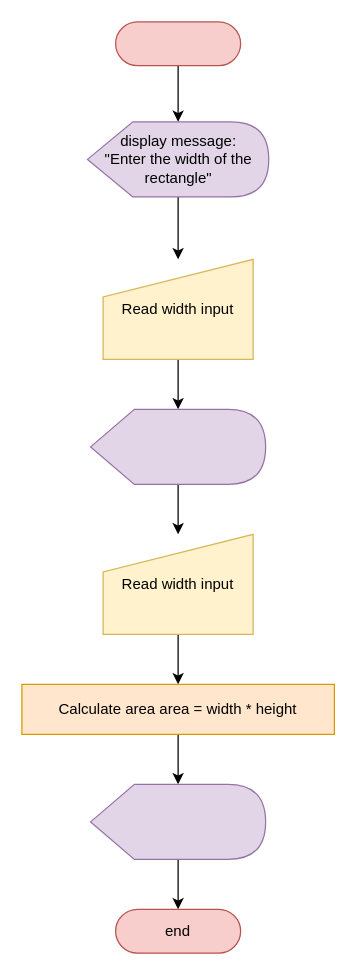
Some shapes in this 356 by 975 pixel diagram are drawn without their labels. Each missing label, with the centre of its shape:
display message: "Enter the height of the rectangle": (177,446)
display message: "The area of the rectangle is ",area: (177,821)
start: (177,43)
